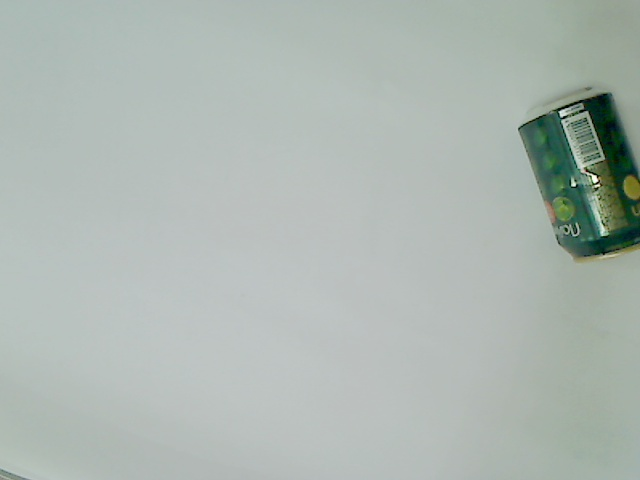can: (516, 83, 640, 266)
